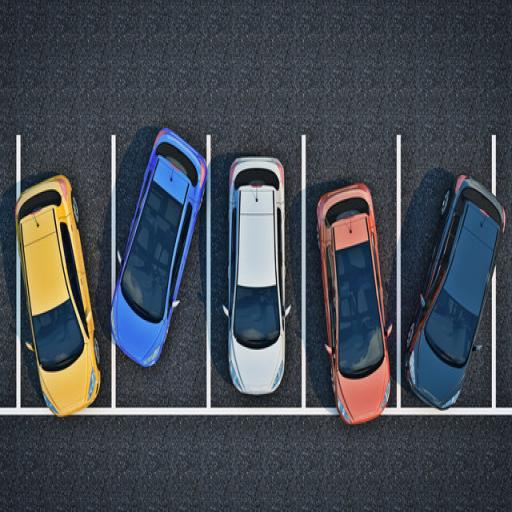Illegal-parking: (98, 121, 209, 410), (299, 138, 398, 442), (412, 138, 508, 420)
Slot-occupied: (14, 149, 106, 440), (211, 118, 298, 420)
